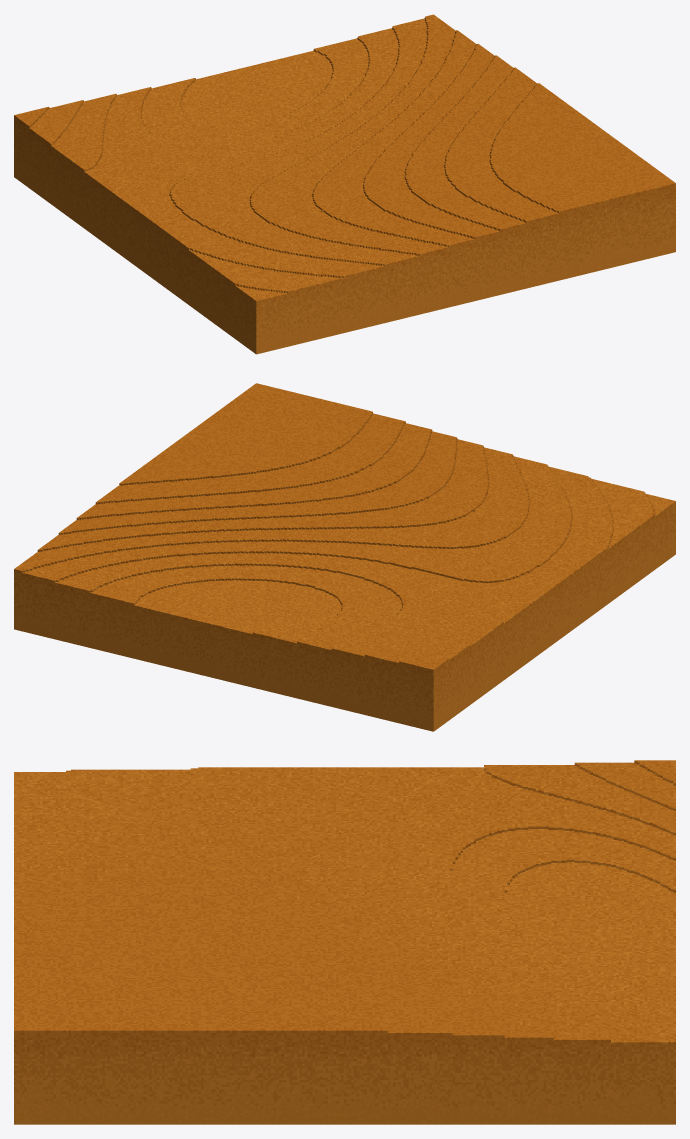
Rendered from Marte-9.obj.
3 renders of one model, top to bottom at view 1: azimuth 30°, elevation 25°; view 2: azimuth 150°, elevation 25°; view 3: azimuth 270°, elevation 25°, orthographic. The views are drawn at different scales.
Bounding box in the file's own units: 25.5 × 4 × 25.5.
Materials: 1 (1 with a texture image).
